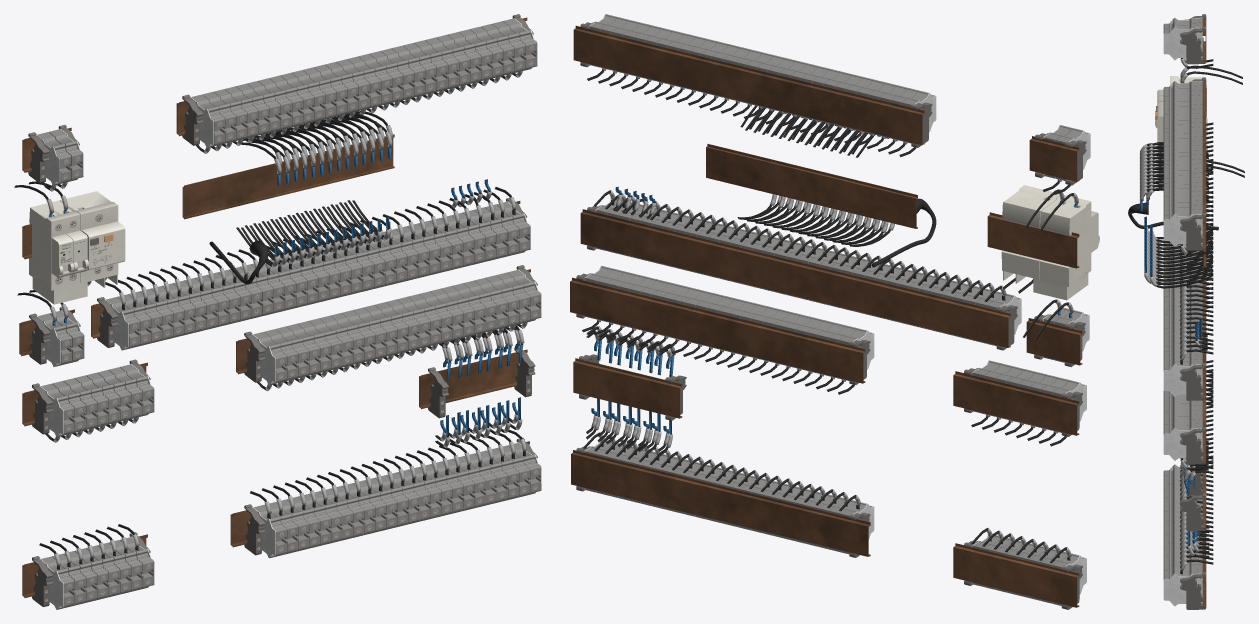
Rendered from dian02.fbx.
The picture shows the model from 3 angles, left to right: view 1: azimuth 30°, elevation 25°; view 2: azimuth 150°, elevation 25°; view 3: azimuth 270°, elevation 25°; orthographic projection. The views are drawn at different scales.
Visible parts, largest first — view 1: TGB01, guaBan01, chajieqiA, xianB, xianC, chajieqiB, chajieqiG, chajieqiC, chajieqiD, chajieqiJ, chajieqiK, xianA (+4 smaller); view 2: guaBan01, TGB01, xianC, xianB, xianA, chajieqiA, chajieqiB, chajieqiG, chajieqiD, chajieqiC, chajieqiJ, chajieqiH (+4 smaller); view 3: TGB01, xianB, chajieqiA, xianC, chajieqiB, xianA, guaBan01, chajieqiD, chajieqiH, chajieqiK, chajieqiJ, chajieqiE (+1 smaller).
Boxes of the visible parts, <box> form: TGB01: <box>28,14,541,609</box>; guaBan01: <box>19,17,530,597</box>; chajieqiA: <box>37,18,536,185</box>; xianB: <box>17,179,516,326</box>; xianC: <box>39,322,527,569</box>; chajieqiB: <box>191,56,380,147</box>; chajieqiG: <box>253,294,441,384</box>; chajieqiC: <box>38,264,273,366</box>; chajieqiD: <box>251,221,451,314</box>; chajieqiJ: <box>253,472,419,557</box>; chajieqiK: <box>397,443,540,522</box>; xianA: <box>14,71,522,217</box>; guaBan01: <box>570,25,1082,607</box>; TGB01: <box>576,14,1099,609</box>; xianC: <box>582,319,1071,563</box>; xianB: <box>594,186,1073,340</box>; xianA: <box>587,68,1078,231</box>; chajieqiA: <box>589,14,1088,180</box>; chajieqiB: <box>745,52,934,143</box>; chajieqiG: <box>685,290,872,380</box>; chajieqiD: <box>674,218,867,310</box>; chajieqiC: <box>853,261,1087,362</box>; chajieqiJ: <box>707,470,872,554</box>; chajieqiH: <box>585,266,700,340</box>; TGB01: <box>1155,14,1207,609</box>; xianB: <box>1128,161,1244,364</box>; chajieqiA: <box>1163,18,1202,219</box>; xianC: <box>1180,273,1213,574</box>; chajieqiB: <box>1163,81,1202,156</box>; xianA: <box>1139,58,1242,255</box>; guaBan01: <box>1202,19,1206,607</box>; chajieqiD: <box>1163,259,1202,338</box>; chajieqiH: <box>1163,392,1202,434</box>; chajieqiK: <box>1163,524,1202,579</box>; chajieqiJ: <box>1163,465,1202,529</box>; chajieqiE: <box>1163,332,1202,370</box>.
Bounding box in the file's own units: 57.54 × 50.38 × 13.57.
